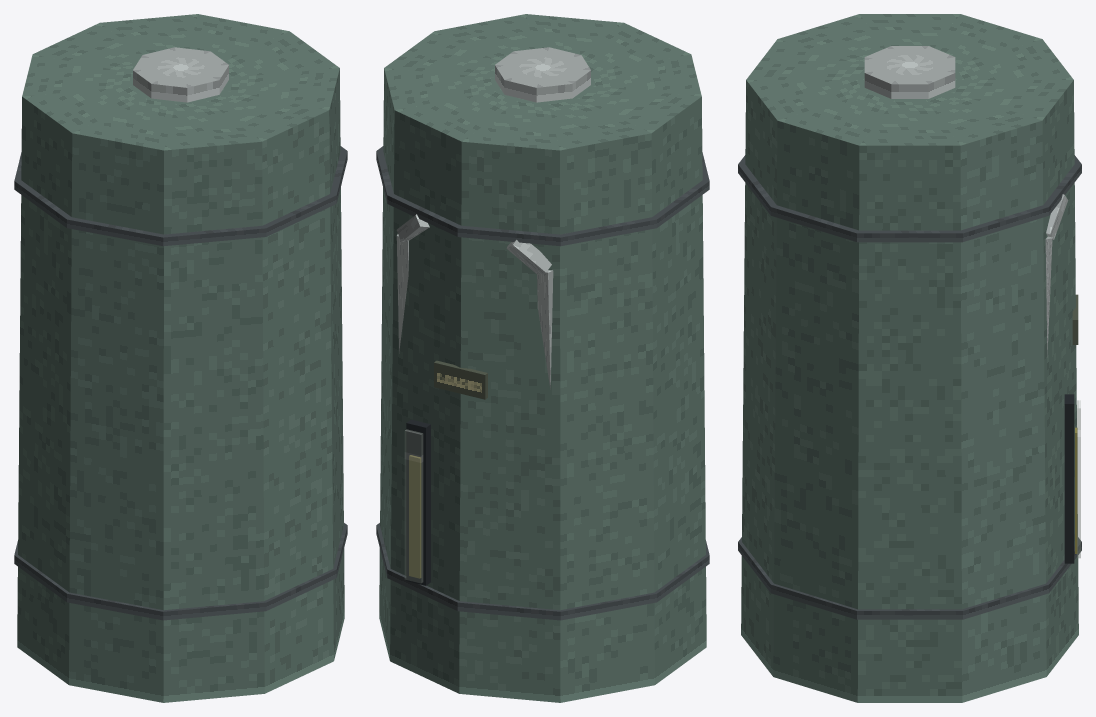
Rendered from f_compost_full.glb.
The picture shows the model from 3 angles, left to right: view 1: azimuth 30°, elevation 25°; view 2: azimuth 150°, elevation 25°; view 3: azimuth 270°, elevation 25°; orthographic projection.
Visible parts, largest first — view 1: block_vessel-shell, block_vessel-band-0.84, block_vessel-cap, block_vessel-band-0.16; view 2: block_vessel-shell, block_vessel-band-0.84, block_vessel-cap, block_vessel-band-0.16, block_sight-glass-cover, block_level-sight-glass-window, block_digester-return-pipe-1 (×2), block_liquid-level, block_digester-charge-status, block_digester-return-pipe-2; view 3: block_vessel-shell, block_vessel-band-0.84, block_vessel-cap, block_vessel-band-0.16, block_level-sight-glass-window, block_sight-glass-cover.
Boxes of the visible parts, x1,y1,x2,y2 form: block_vessel-shell: (17,14,344,702); block_vessel-band-0.84: (14,146,347,246); block_vessel-cap: (133,47,228,102); block_vessel-band-0.16: (14,523,347,620); block_vessel-shell: (379,14,706,702); block_vessel-band-0.84: (376,146,709,246); block_vessel-cap: (495,47,590,102); block_vessel-band-0.16: (376,523,709,620); block_sight-glass-cover: (404,429,423,583); block_level-sight-glass-window: (406,419,430,585); block_digester-return-pipe-1 (×2): (396,234,553,389); block_liquid-level: (409,455,421,578); block_digester-charge-status: (434,360,487,399); block_digester-return-pipe-2: (506,239,551,274); block_vessel-shell: (741,14,1078,702); block_vessel-band-0.84: (738,155,1081,242); block_vessel-cap: (864,46,955,98); block_vessel-band-0.16: (738,537,1081,619); block_level-sight-glass-window: (1064,394,1074,563); block_sight-glass-cover: (1077,400,1080,558).
Size of the model in its own units: 0.8807 by 1.69 by 0.926.
Materials: 2 (2 with a texture image).
